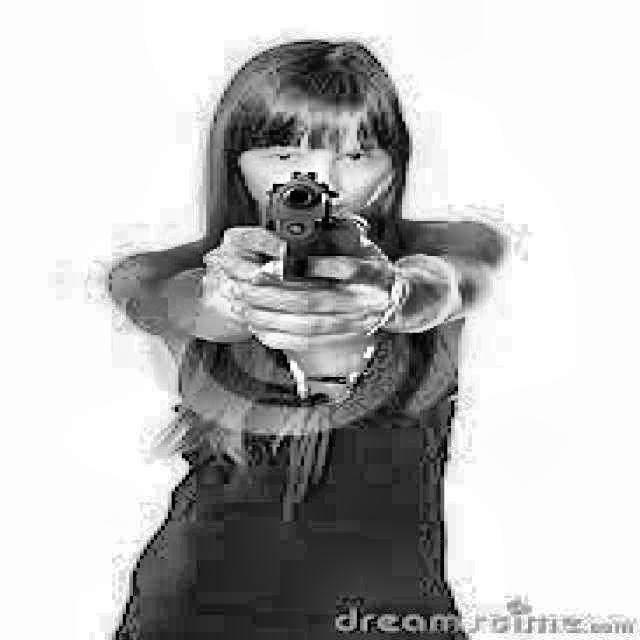pistol: (253, 163, 354, 290)
